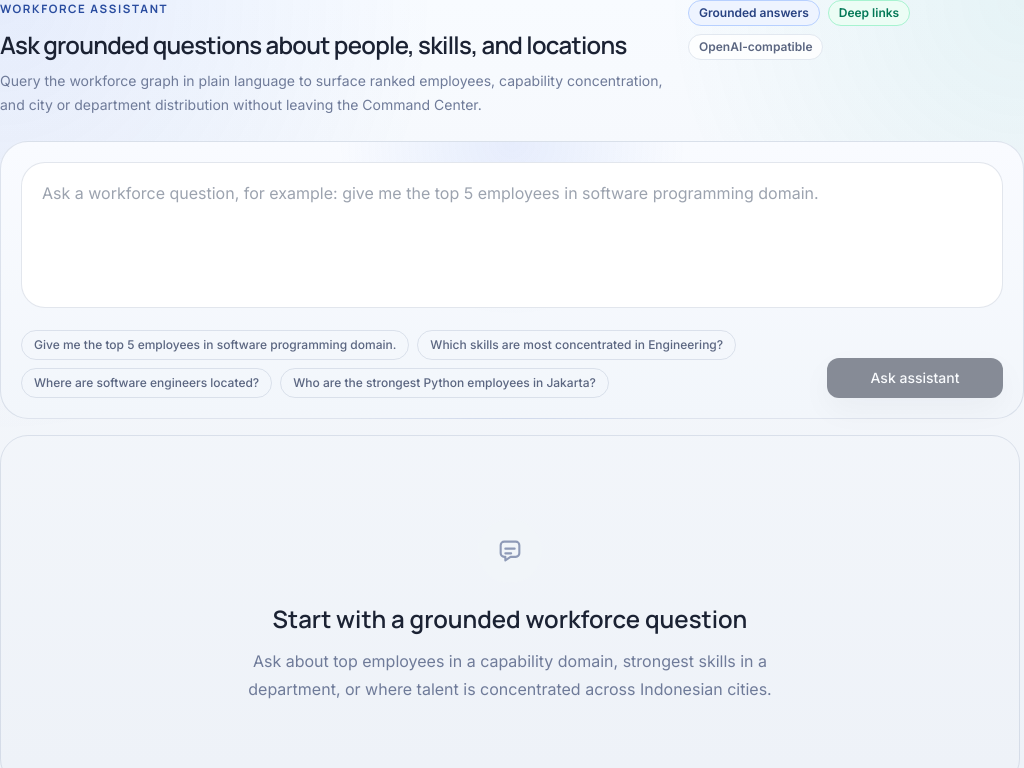
Scenario: WorkforceAssistantCard › sends a workforce question and renders the grounded answer with deep links
Replace the text in the text box with placeholder "Ask a workforce question" with "Give me the top 5 employees in software programming domain.". click: (512, 235)
box: left=21, top=162, right=1003, bottom=308
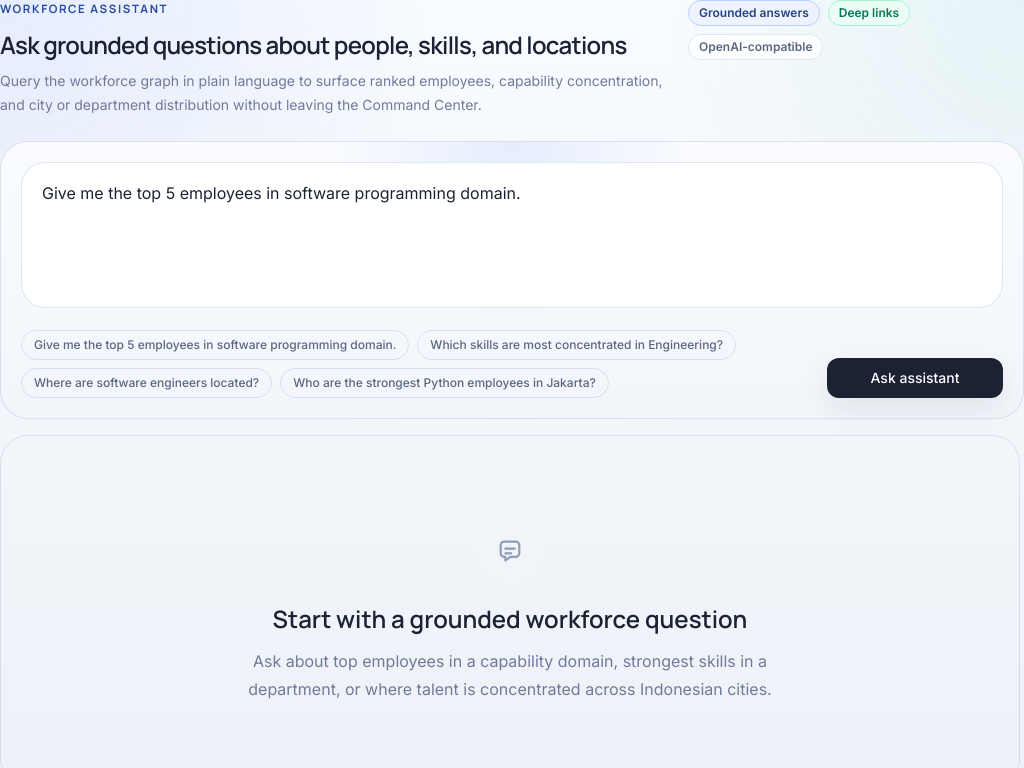
Click the button "Ask assistant". click: (915, 378)
box: left=827, top=358, right=1003, bottom=398
(page scrolled)
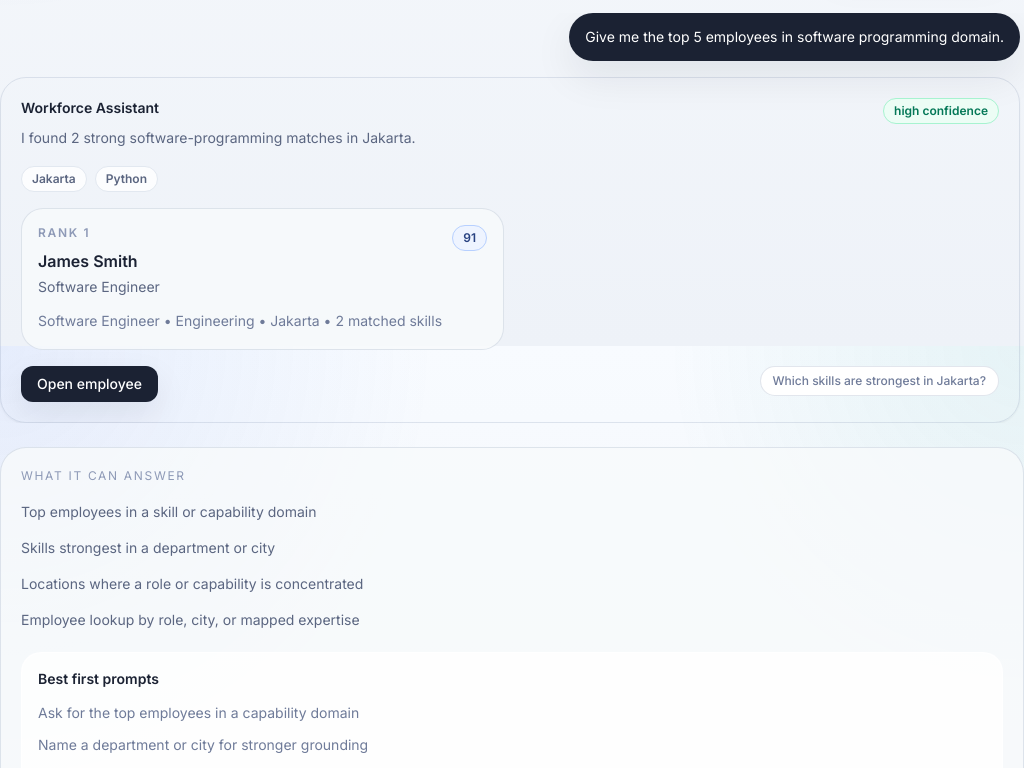
Check: the text "I found 2 strong software-programming matches in Jakarta." is shown, box left=21, top=126, right=416, bottom=150
Check: the text "James Smith" is shown, box left=38, top=251, right=138, bottom=271
Check: the link "Open employee" is shown, box left=21, top=366, right=158, bottom=402
